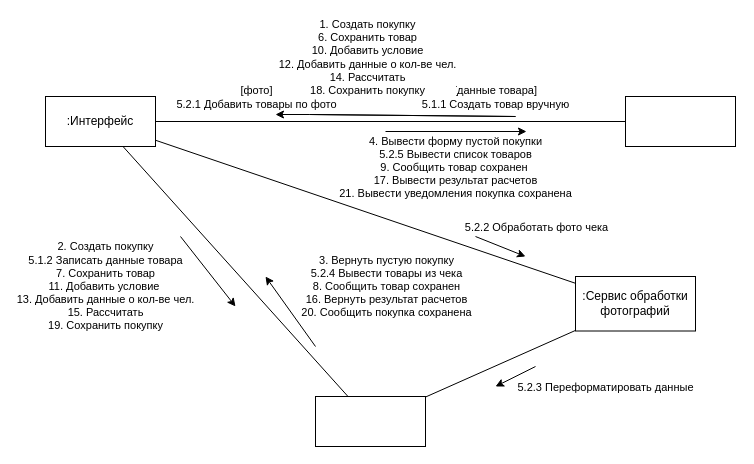
The diagram is 754 pixels wide and 464 high, and some of its shapes have lost their labels. Each missing label, with the centre of its shape:
":Пользователь" belongs at (x=680, y=121).
":Приложение" belongs at (x=370, y=421).
